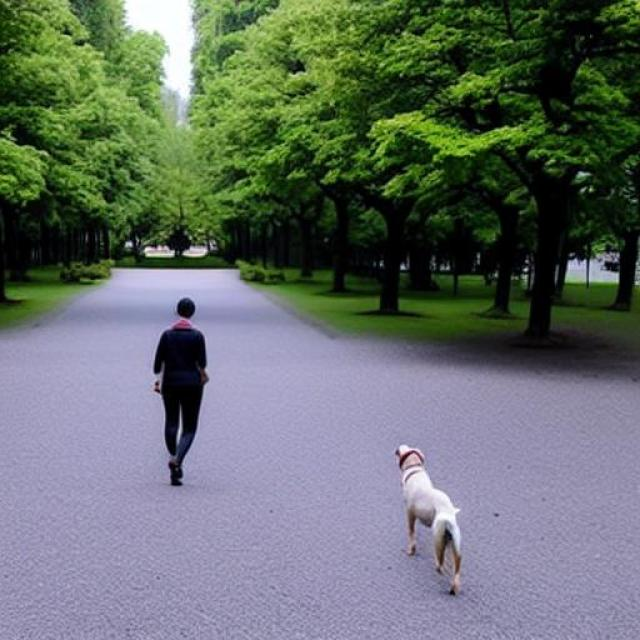Unleashed_Dog: (162, 386, 462, 596)
